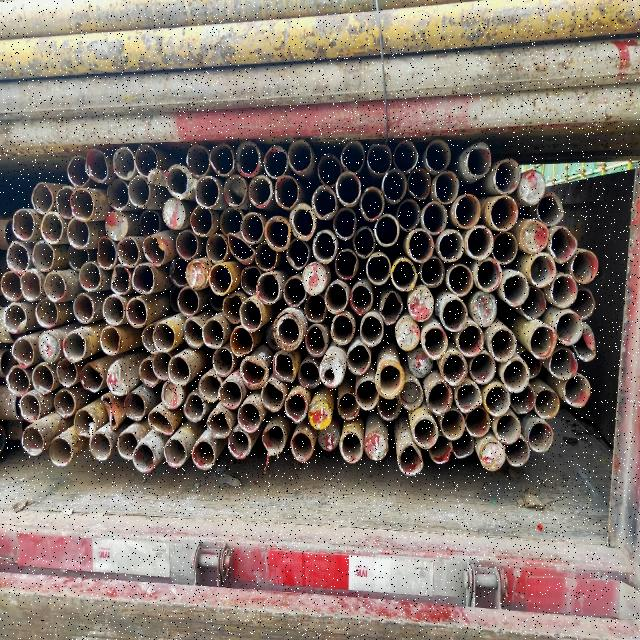pipe: (434, 344, 470, 388), (317, 345, 348, 391), (429, 168, 464, 208), (373, 358, 406, 400), (272, 309, 303, 352), (492, 410, 525, 450), (466, 291, 502, 327), (404, 288, 440, 324), (463, 222, 497, 260), (463, 142, 495, 182), (390, 316, 422, 356), (321, 276, 353, 316), (58, 327, 90, 367), (336, 168, 366, 210), (420, 323, 451, 363), (485, 198, 523, 230), (518, 168, 548, 208), (492, 156, 522, 196), (310, 184, 340, 224), (298, 322, 330, 359), (342, 341, 373, 379), (9, 205, 37, 247), (167, 252, 195, 294), (26, 362, 55, 402), (533, 192, 567, 226), (480, 384, 514, 418), (257, 382, 291, 416), (500, 358, 532, 394), (454, 382, 486, 418), (472, 258, 504, 294), (233, 300, 265, 336), (548, 226, 578, 264), (364, 138, 394, 176), (287, 204, 317, 242), (525, 255, 559, 288), (286, 137, 314, 177), (182, 315, 210, 355), (406, 225, 436, 262), (410, 416, 442, 450), (422, 381, 454, 415), (346, 283, 378, 317), (422, 136, 452, 172), (339, 138, 369, 174), (260, 145, 290, 181), (380, 168, 410, 204), (421, 199, 451, 235), (327, 311, 357, 347), (105, 264, 135, 300), (98, 293, 128, 329), (101, 362, 130, 399), (247, 172, 275, 210), (130, 262, 158, 300), (216, 205, 248, 238), (203, 409, 235, 442), (241, 353, 270, 389), (222, 172, 248, 212), (160, 196, 188, 233), (134, 208, 162, 245), (63, 217, 91, 254), (456, 322, 484, 359), (35, 331, 63, 368), (105, 208, 132, 246), (181, 391, 208, 429), (507, 386, 539, 418), (570, 250, 600, 284), (453, 194, 483, 228), (489, 324, 519, 358), (395, 378, 425, 412), (370, 393, 404, 423), (279, 278, 309, 312), (8, 334, 38, 368), (554, 310, 584, 344), (405, 168, 433, 204), (358, 187, 386, 223), (438, 228, 466, 264), (376, 290, 404, 326), (356, 313, 384, 349), (332, 247, 360, 283), (226, 235, 256, 268), (84, 148, 110, 186), (312, 230, 338, 268), (364, 249, 390, 287), (390, 140, 419, 174), (491, 230, 520, 264), (464, 406, 492, 441), (306, 396, 334, 431), (282, 389, 310, 424), (132, 439, 159, 475), (195, 178, 222, 214), (265, 214, 292, 250), (217, 378, 244, 414), (551, 273, 578, 309), (164, 165, 190, 202), (236, 138, 260, 178), (517, 224, 549, 254), (3, 366, 33, 398), (64, 154, 92, 188), (502, 272, 530, 306), (402, 351, 436, 379), (353, 377, 381, 411), (32, 298, 60, 332), (574, 319, 596, 362), (168, 353, 195, 388), (480, 434, 506, 470), (163, 432, 189, 468), (274, 172, 300, 208), (174, 226, 200, 262), (397, 195, 423, 231), (472, 350, 498, 386), (302, 262, 328, 298), (302, 290, 328, 326), (18, 270, 44, 306), (0, 270, 22, 312), (185, 257, 209, 295), (441, 408, 467, 443), (186, 142, 211, 178), (352, 225, 377, 261), (568, 288, 596, 320), (64, 241, 92, 273), (42, 272, 70, 304), (1, 300, 29, 332), (52, 358, 80, 390), (550, 348, 578, 380), (30, 180, 54, 217), (565, 373, 591, 407), (528, 420, 554, 454), (317, 152, 343, 186), (521, 286, 547, 320), (374, 213, 400, 247), (331, 208, 357, 242), (391, 256, 417, 290), (77, 262, 103, 296), (218, 294, 244, 328), (148, 349, 174, 383), (253, 240, 280, 272), (235, 401, 262, 433), (126, 295, 150, 331), (102, 389, 122, 432), (191, 438, 217, 471), (240, 210, 265, 244), (185, 208, 215, 236), (209, 142, 235, 174), (49, 435, 75, 467), (18, 392, 44, 424), (203, 232, 229, 264), (441, 298, 467, 330), (208, 263, 234, 295), (7, 238, 30, 274), (340, 430, 364, 464), (158, 382, 185, 412), (531, 326, 556, 358), (449, 264, 474, 296), (71, 187, 95, 220), (505, 436, 531, 466), (226, 430, 252, 460), (124, 383, 150, 413), (198, 374, 224, 404), (316, 421, 340, 453), (291, 430, 315, 462), (107, 176, 131, 208), (40, 211, 64, 243), (229, 322, 253, 354), (536, 390, 561, 420), (398, 445, 423, 475), (142, 236, 167, 266), (136, 142, 158, 176), (113, 145, 135, 179), (57, 184, 79, 218), (94, 236, 116, 270), (287, 238, 309, 272), (422, 252, 444, 286), (258, 270, 280, 304), (202, 320, 224, 354), (99, 324, 121, 358), (32, 240, 55, 272), (364, 431, 390, 459), (152, 324, 178, 352), (128, 175, 150, 208), (518, 348, 542, 378), (262, 424, 286, 454), (74, 408, 98, 438), (116, 236, 140, 266), (273, 351, 297, 381), (138, 358, 162, 388), (74, 290, 95, 324), (90, 428, 112, 460), (296, 362, 322, 389), (149, 410, 176, 436), (451, 430, 475, 458), (428, 435, 452, 463), (80, 362, 104, 390), (117, 430, 139, 460), (240, 264, 262, 294), (143, 320, 162, 354), (55, 387, 76, 417), (213, 346, 234, 376), (22, 426, 44, 454), (338, 392, 358, 420), (178, 288, 198, 316)
